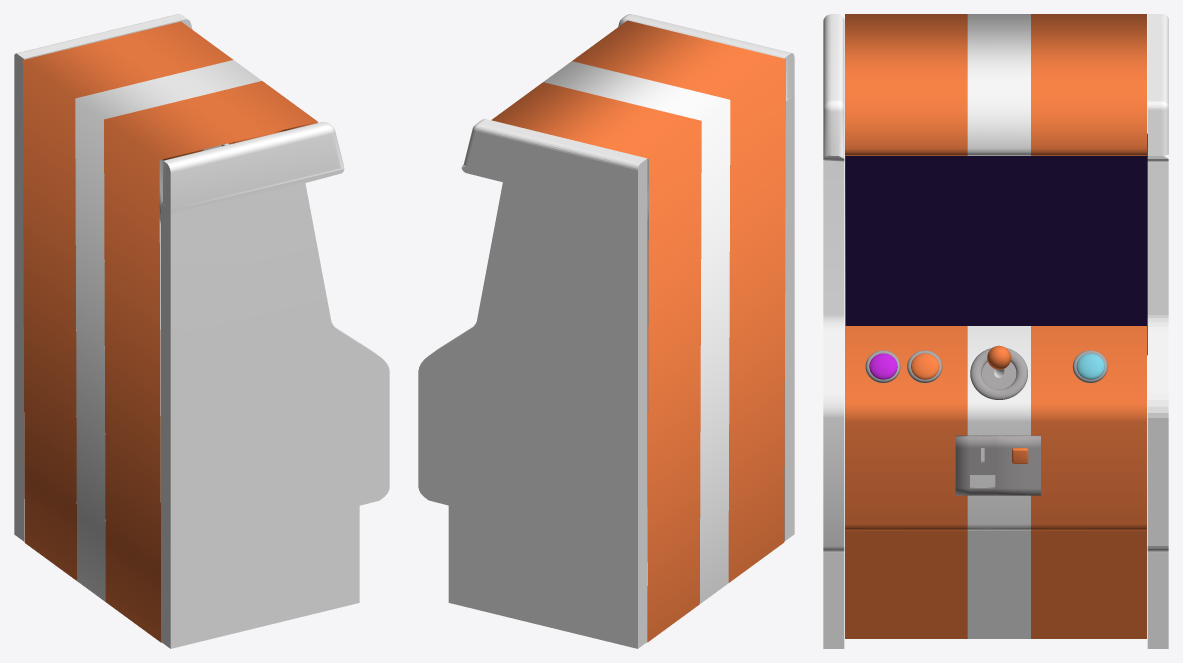
The model's file is arcade.glb.
3 views of the same model, side by side, from view 1: azimuth 30°, elevation 25°; view 2: azimuth 150°, elevation 25°; view 3: azimuth 270°, elevation 25° (orthographic). The views are drawn at different scales.
Parts seen in each view (by area): view 1: Plane, Plane.002, Plane.001; view 2: Plane.001, Plane.002, Plane; view 3: Plane.002, Plane.003, Plane.001, Plane, Cube, Sphere.003, Sphere.001, Sphere, Sphere.002.
Part boxes in pixels (bbox=[...]): Plane: bbox=[161, 122, 389, 648]; Plane.002: bbox=[22, 21, 317, 642]; Plane.001: bbox=[14, 14, 192, 541]; Plane.001: bbox=[418, 119, 647, 648]; Plane.002: bbox=[491, 20, 785, 642]; Plane: bbox=[618, 14, 794, 541]; Plane.002: bbox=[845, 14, 1146, 638]; Plane.003: bbox=[845, 133, 1147, 355]; Plane.001: bbox=[1147, 14, 1168, 648]; Plane: bbox=[823, 14, 844, 648]; Cube: bbox=[955, 435, 1040, 495]; Sphere.003: bbox=[970, 345, 1027, 399]; Sphere.001: bbox=[907, 350, 942, 383]; Sphere: bbox=[865, 350, 900, 383]; Sphere.002: bbox=[1072, 350, 1107, 383].
Size of what is drawn, in the model's own units: 2.13 by 4.47 by 2.62.
